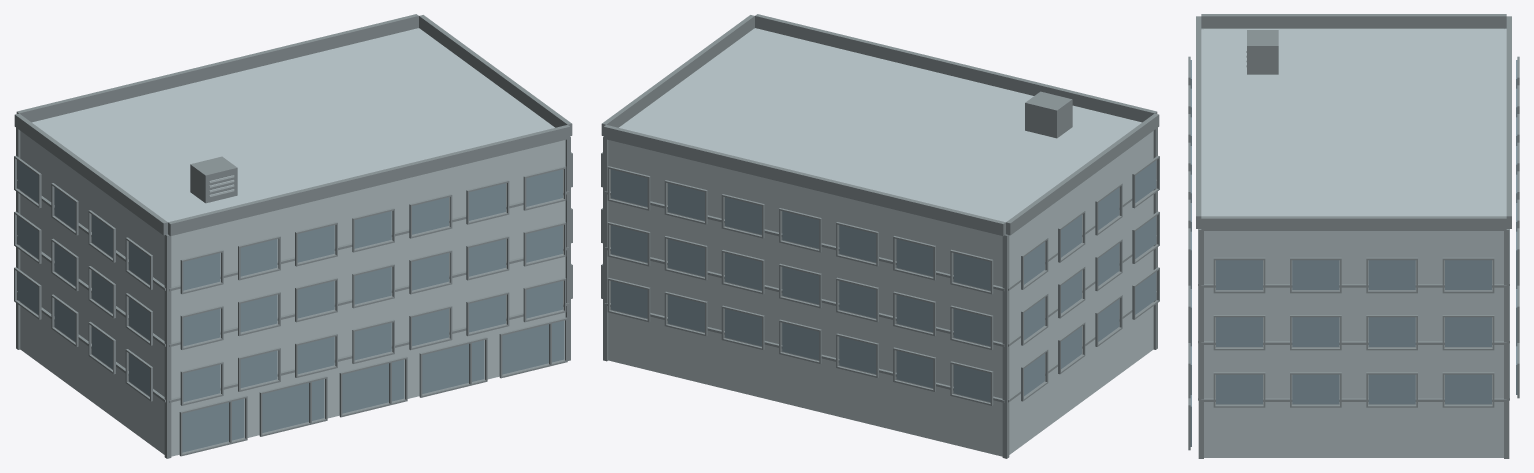
The model's file is lot_3x2_slab.glb.
3 views of the same model, side by side, from view 1: azimuth 30°, elevation 25°; view 2: azimuth 150°, elevation 25°; view 3: azimuth 270°, elevation 25° (orthographic). The views are drawn at different scales.
Visible parts, largest first — view 1: lot_3x2_slab; view 2: lot_3x2_slab; view 3: lot_3x2_slab.
Part boxes in pixels (x1,y1,x2,y2): lot_3x2_slab: [14, 14, 572, 458]; lot_3x2_slab: [601, 14, 1159, 458]; lot_3x2_slab: [1188, 14, 1519, 458].
Bounding box in the file's own units: 23.74 × 13.5 × 15.74.
